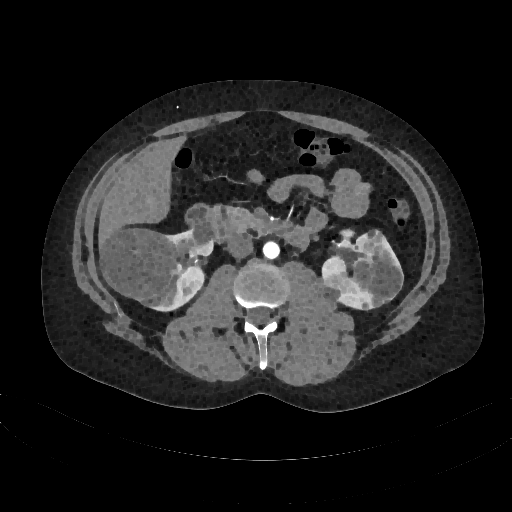Lesion: (96, 224, 187, 311)
